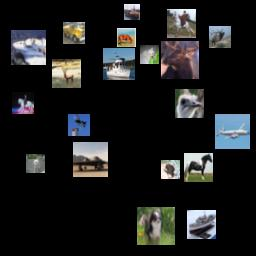airplane: (215, 114, 250, 149), (73, 142, 108, 177), (68, 114, 90, 136)
bird: (175, 89, 204, 118)
deer: (161, 41, 199, 79), (52, 59, 81, 88), (209, 26, 231, 48)
dog: (137, 207, 175, 245), (26, 154, 45, 173), (140, 45, 159, 64)
frog: (161, 160, 180, 179)
ship: (11, 30, 46, 65), (103, 48, 135, 80), (187, 210, 216, 239), (124, 4, 140, 20)
truck: (63, 22, 85, 44)
